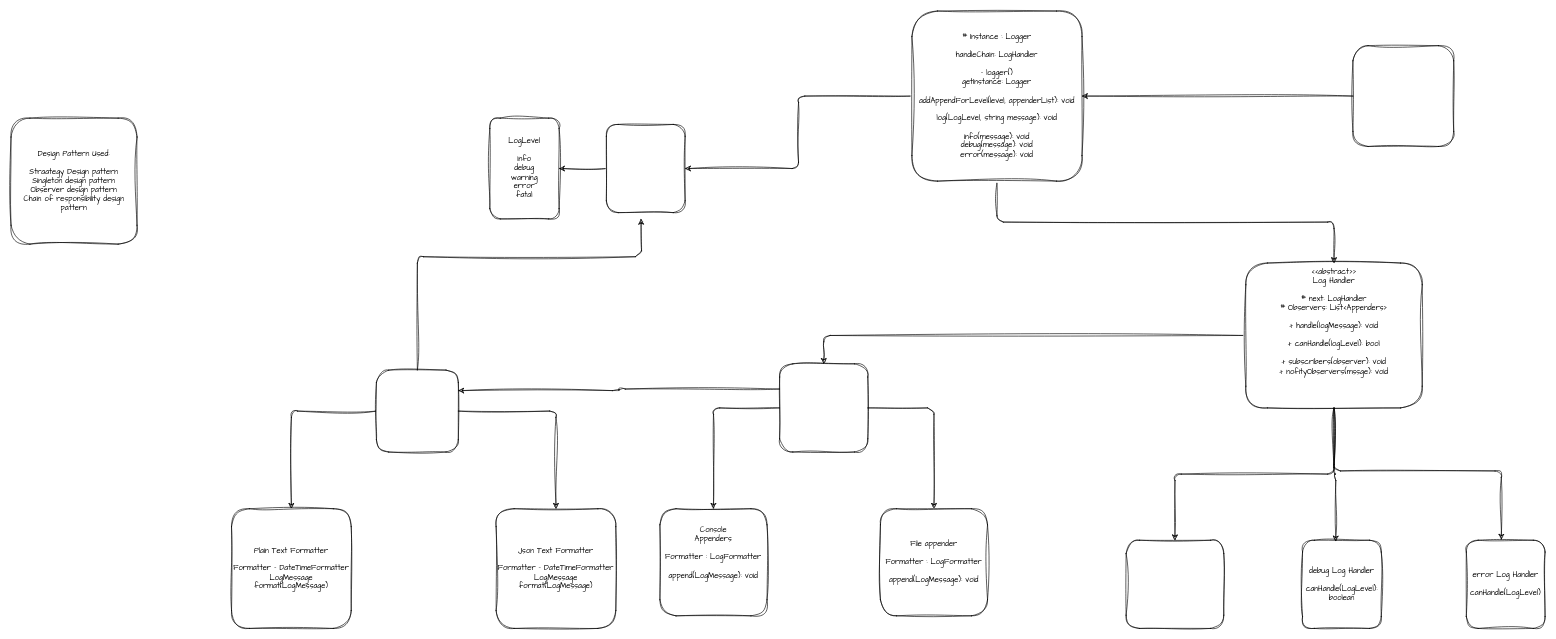
Image size: 1556x639. Some labels were removed from this diagram. The box of each missing label's shape, as (x1, y1, x2, y2) in pixels:
<Interface> Text Formatter format(LogMessage): (376, 369, 458, 452)
Client Logger: logger logger.debug(message) logger.error(message): (1352, 45, 1454, 146)
Info Log Handler canHandle(LogLevel) : boolean: (1125, 540, 1224, 628)
Log message level message timestamp: (606, 124, 685, 213)
LogAppender append(LogMessage): (779, 363, 868, 452)
